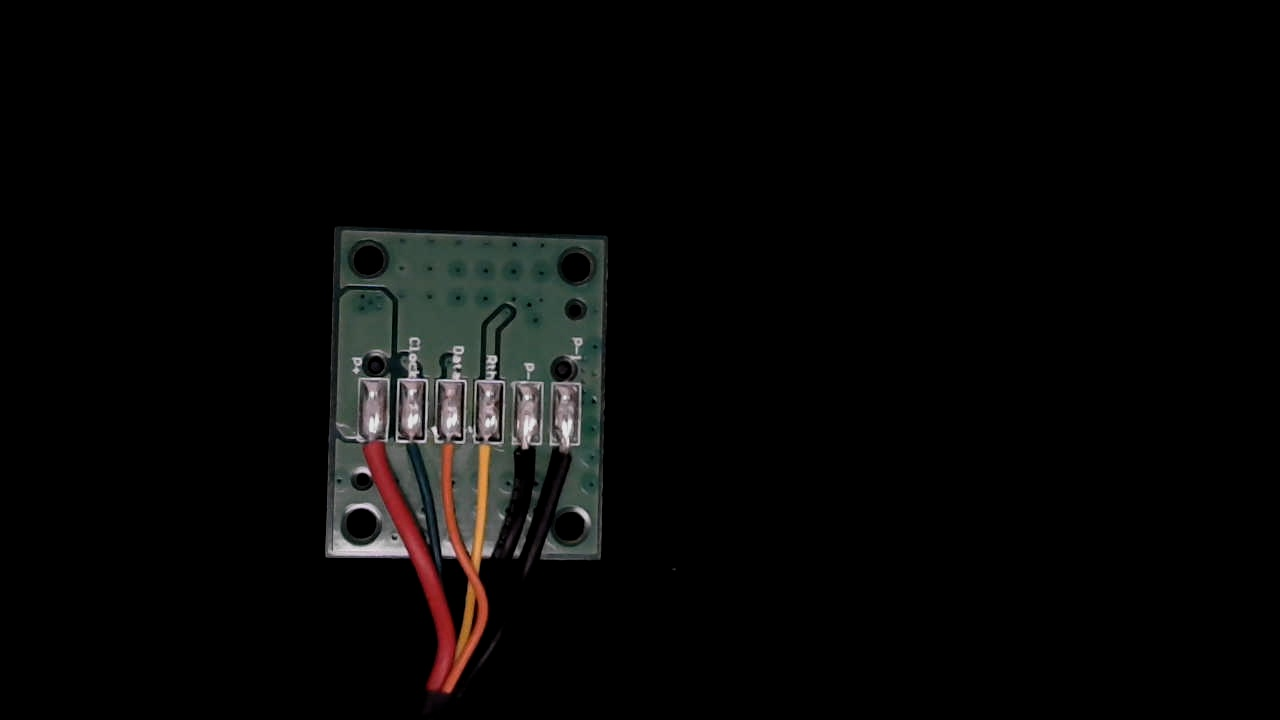Black: (510, 422, 544, 495)
Black1: (549, 425, 582, 492)
Green: (396, 414, 430, 484)
Orange: (433, 422, 465, 494)
Red: (358, 417, 392, 487)
Yellow: (472, 424, 506, 498)
